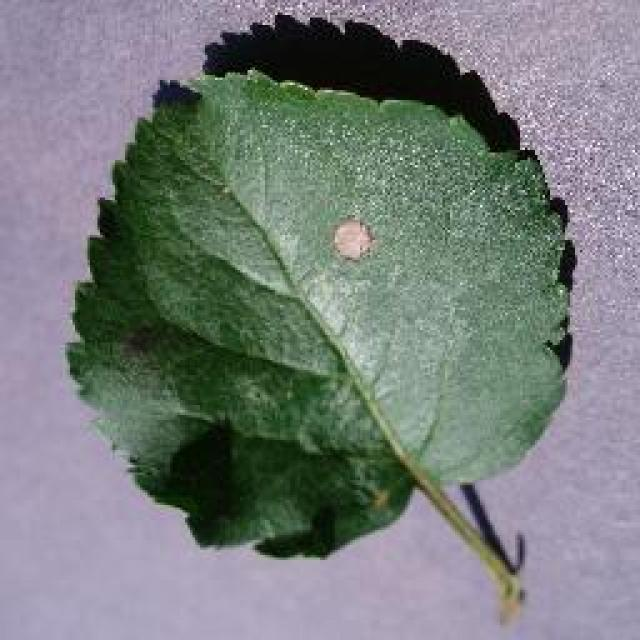apple black rot: (62, 10, 578, 620)
